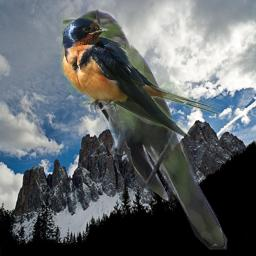Cuckoo: (63, 9, 234, 251)
Swallow: (60, 15, 221, 137)
